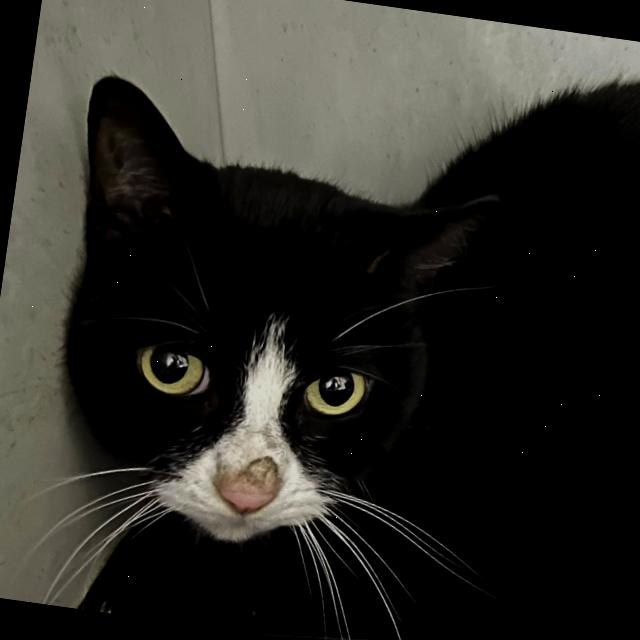domestic_short_hair_cat: (2, 64, 530, 600)
